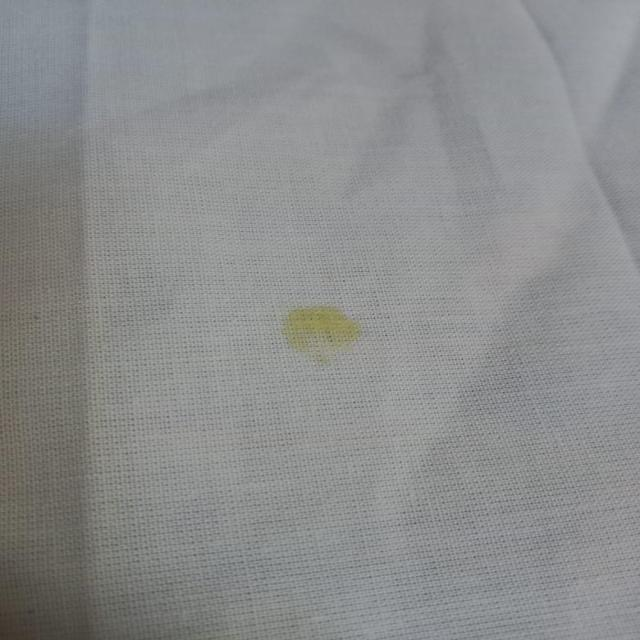stain: (264, 296, 376, 366)
